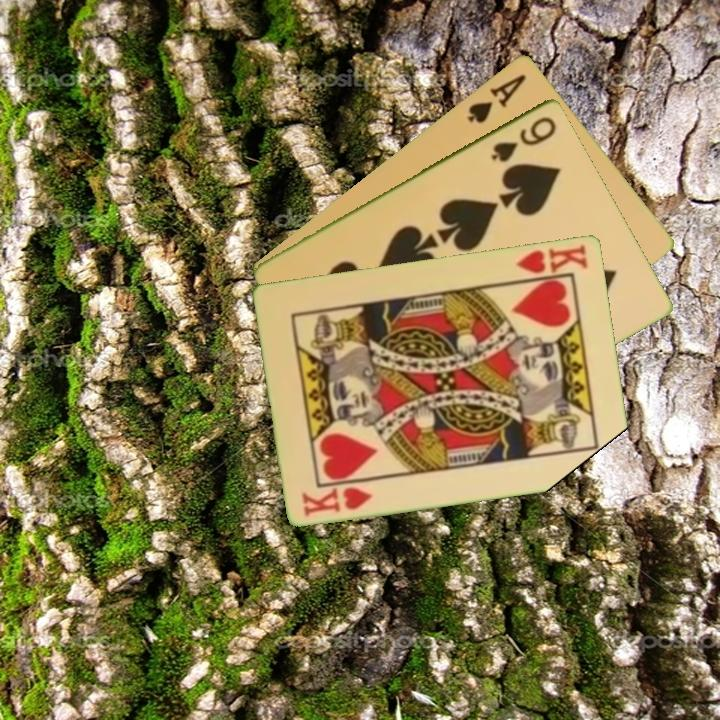9s: (487, 112, 560, 165)
As: (463, 70, 529, 126)
Kh: (510, 240, 591, 284), (299, 483, 376, 518)
